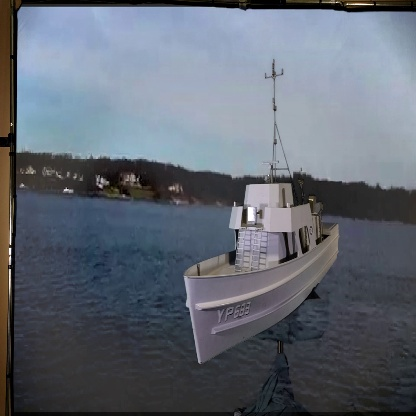YP689: (182, 60, 342, 363)
